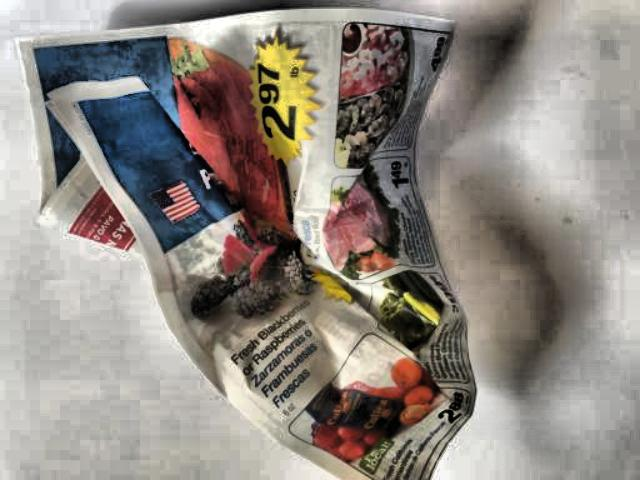Paper: (17, 6, 493, 480)
